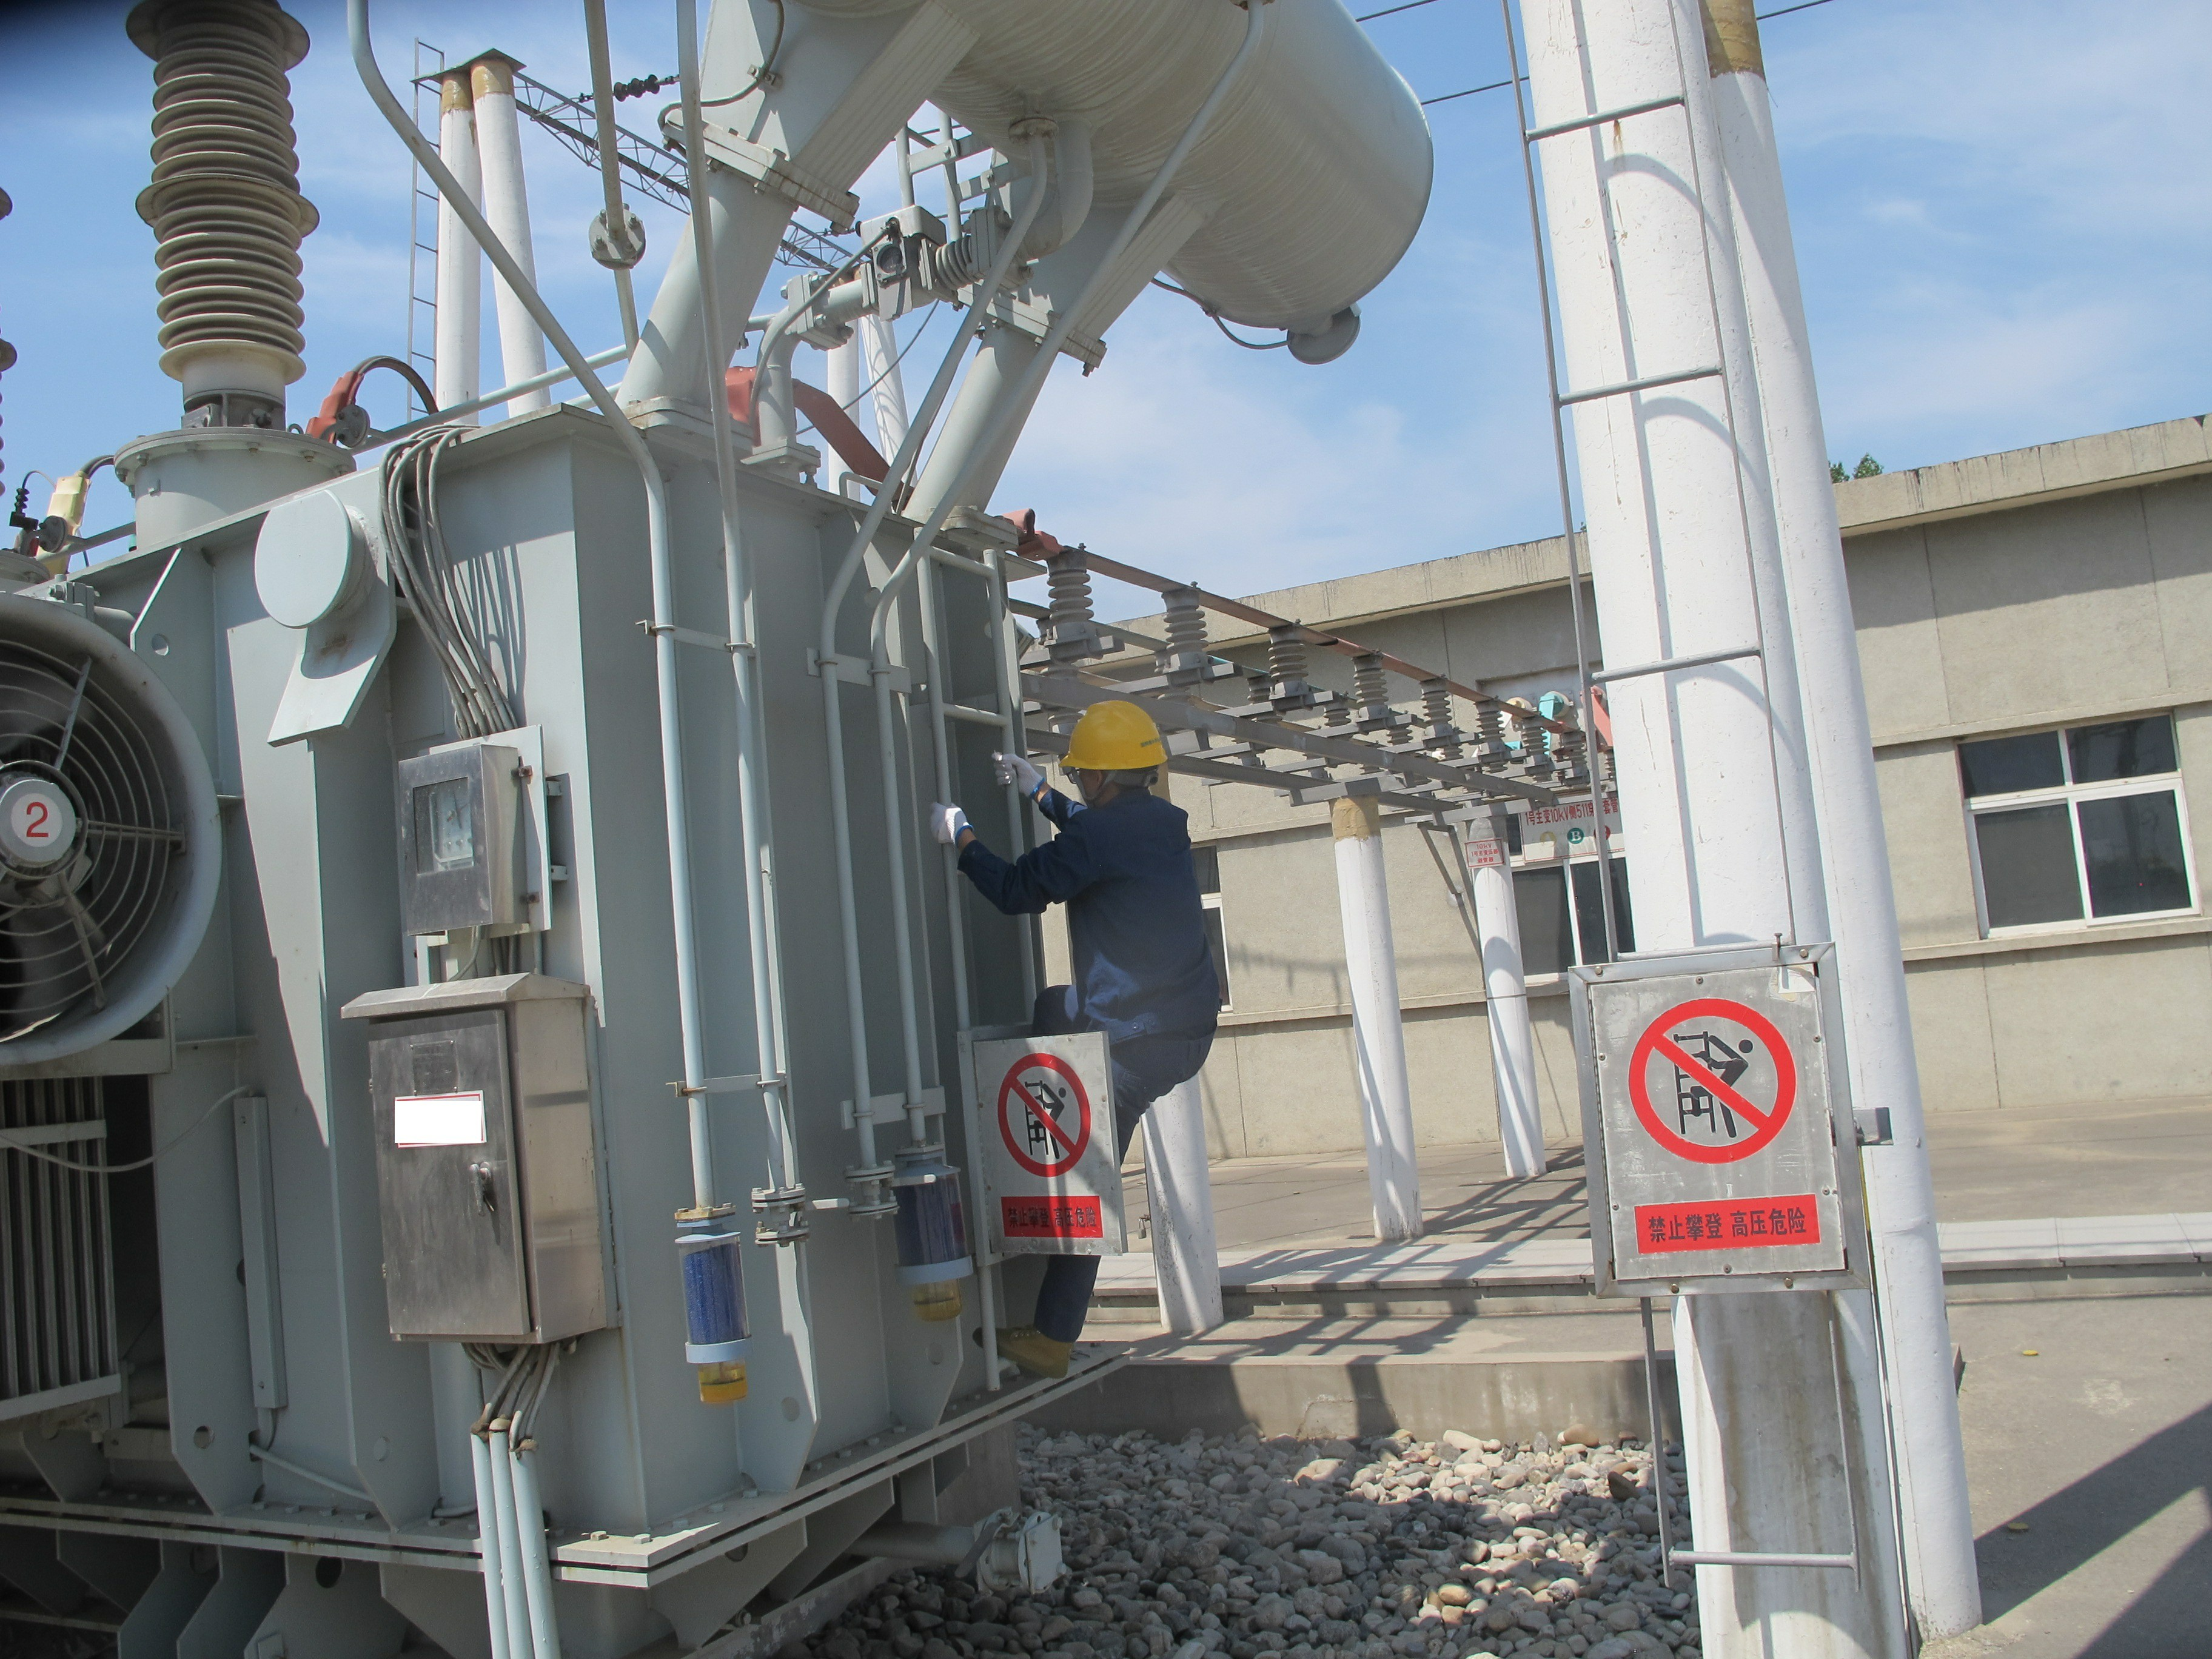hat: (1054, 695, 1174, 819)
